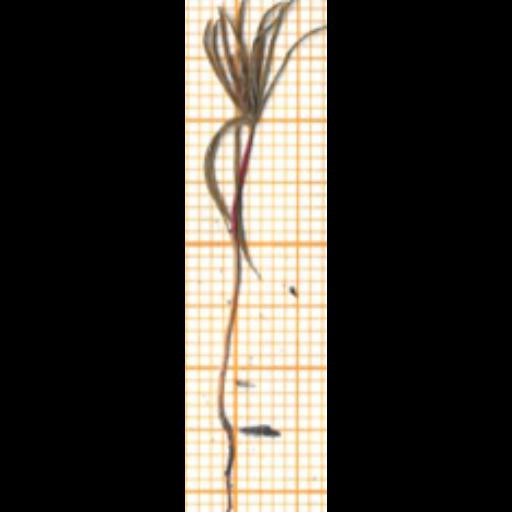flowerPinus: (205, 0, 326, 122)
rootPinus: (217, 385, 235, 510)
stemPinus: (219, 125, 261, 385)
